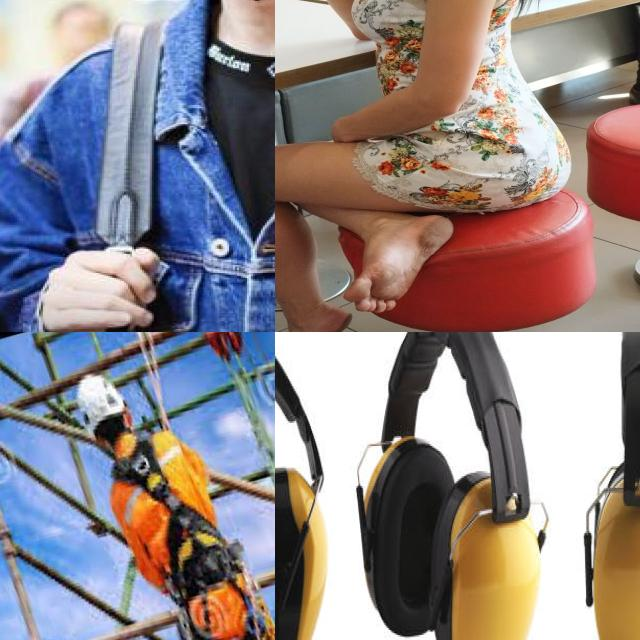Barefoots: (343, 215, 454, 313), (275, 303, 352, 332)
Ear-protection: (342, 332, 550, 640), (569, 332, 640, 640), (275, 332, 335, 640)
Harness: (115, 440, 240, 606)
hand_noglove: (34, 245, 161, 332)
person: (0, 0, 275, 332)
